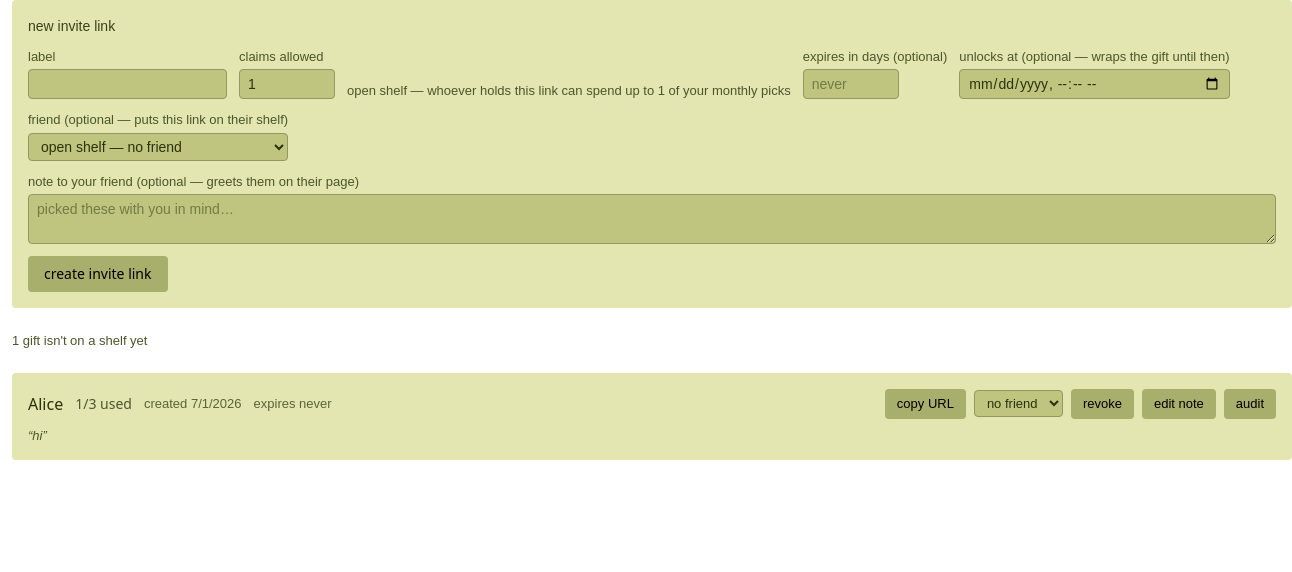
it: Links › note editing › surfaces a save failure loudly and keeps the editor open
The image size is (1292, 572).
Step 1. Click the button with aria-label "edit note for Alice" → (1179, 404), box left=1142, top=389, right=1216, bottom=419
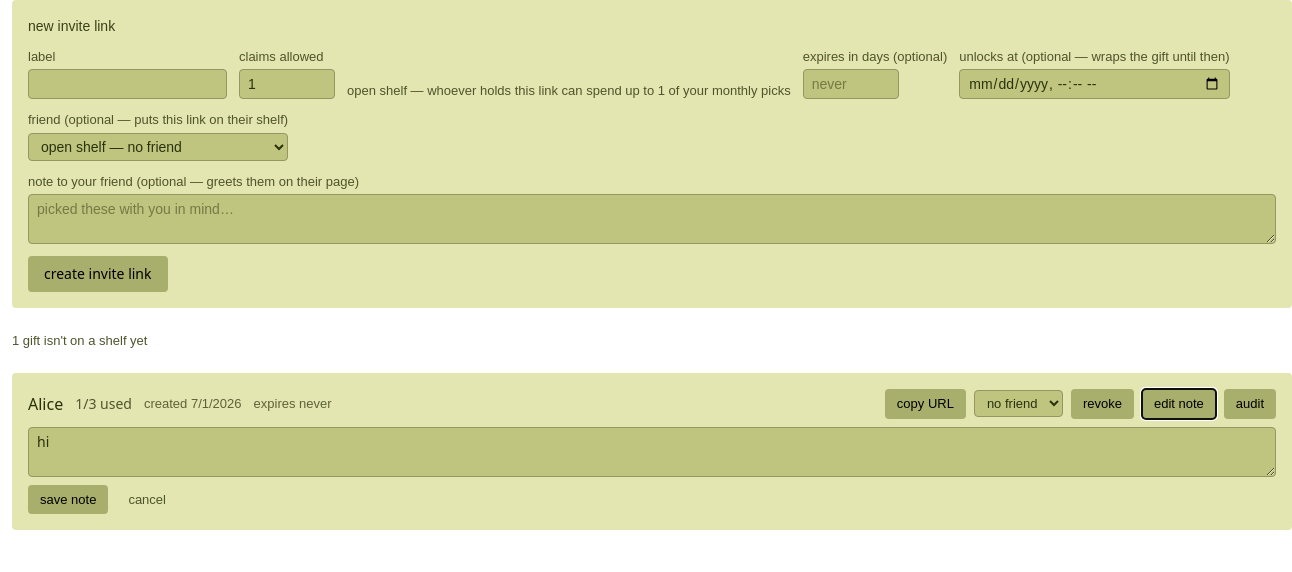
Step 2. Replace the text in the text box named "note for Alice" with "hello" → (652, 452), box left=28, top=427, right=1276, bottom=477
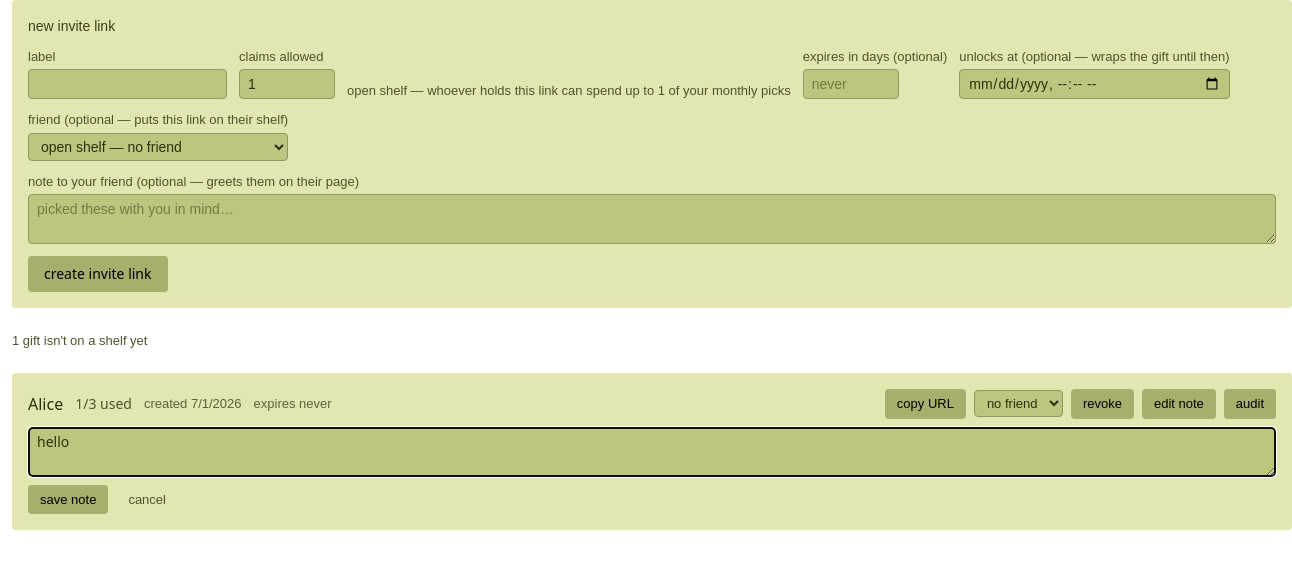
Step 3. Click the button with aria-label "save note for Alice" → (68, 499), box left=28, top=485, right=108, bottom=514
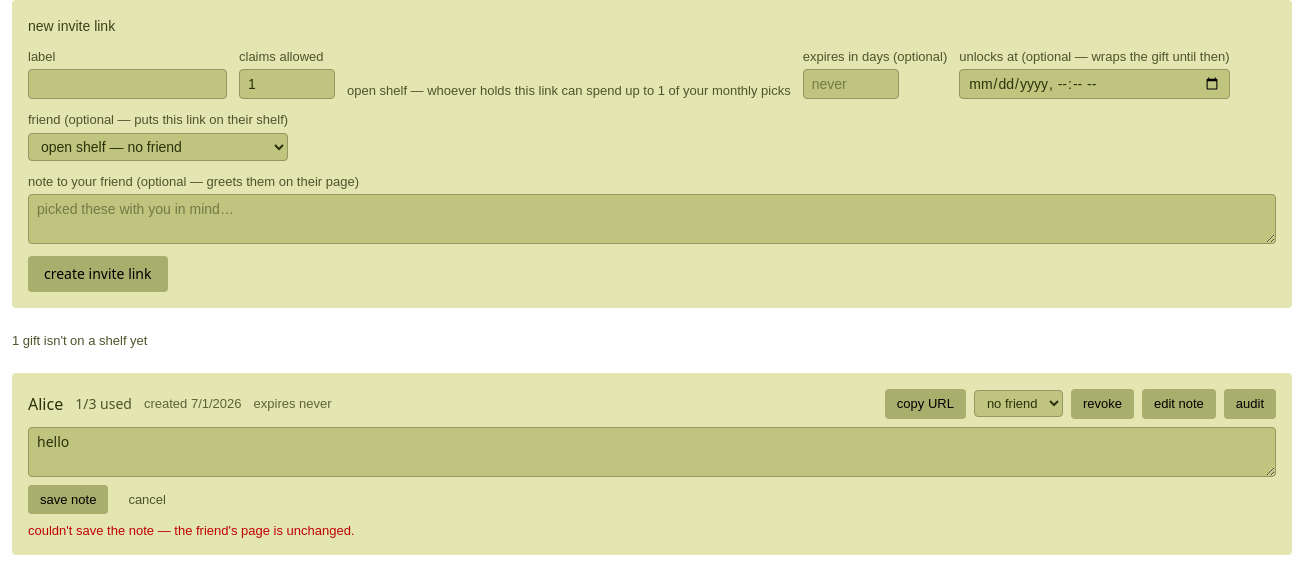
Check: the message shows "couldn't save the note", box left=28, top=523, right=355, bottom=538
